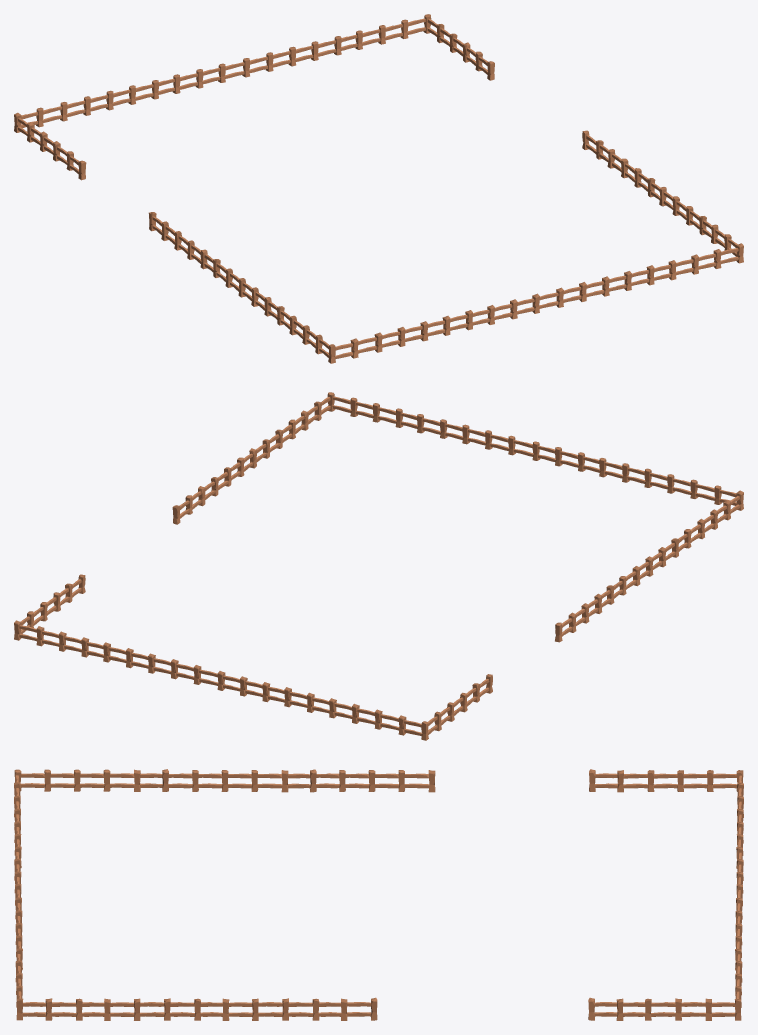
Rendered from BelediyeCit.fbx.
3 views of the same model, one above another, from view 1: azimuth 30°, elevation 25°; view 2: azimuth 150°, elevation 25°; view 3: azimuth 270°, elevation 25° (orthographic). The views are drawn at different scales.
Visible parts, largest first — view 1: BelediyeCit; view 2: BelediyeCit; view 3: BelediyeCit.
Boxes of the visible parts, x1,y1,x2,y2 form: BelediyeCit: (14, 14, 743, 363); BelediyeCit: (14, 392, 743, 740); BelediyeCit: (14, 769, 743, 1020).
Size of the model in its own units: 980 by 39.75 by 1303.
